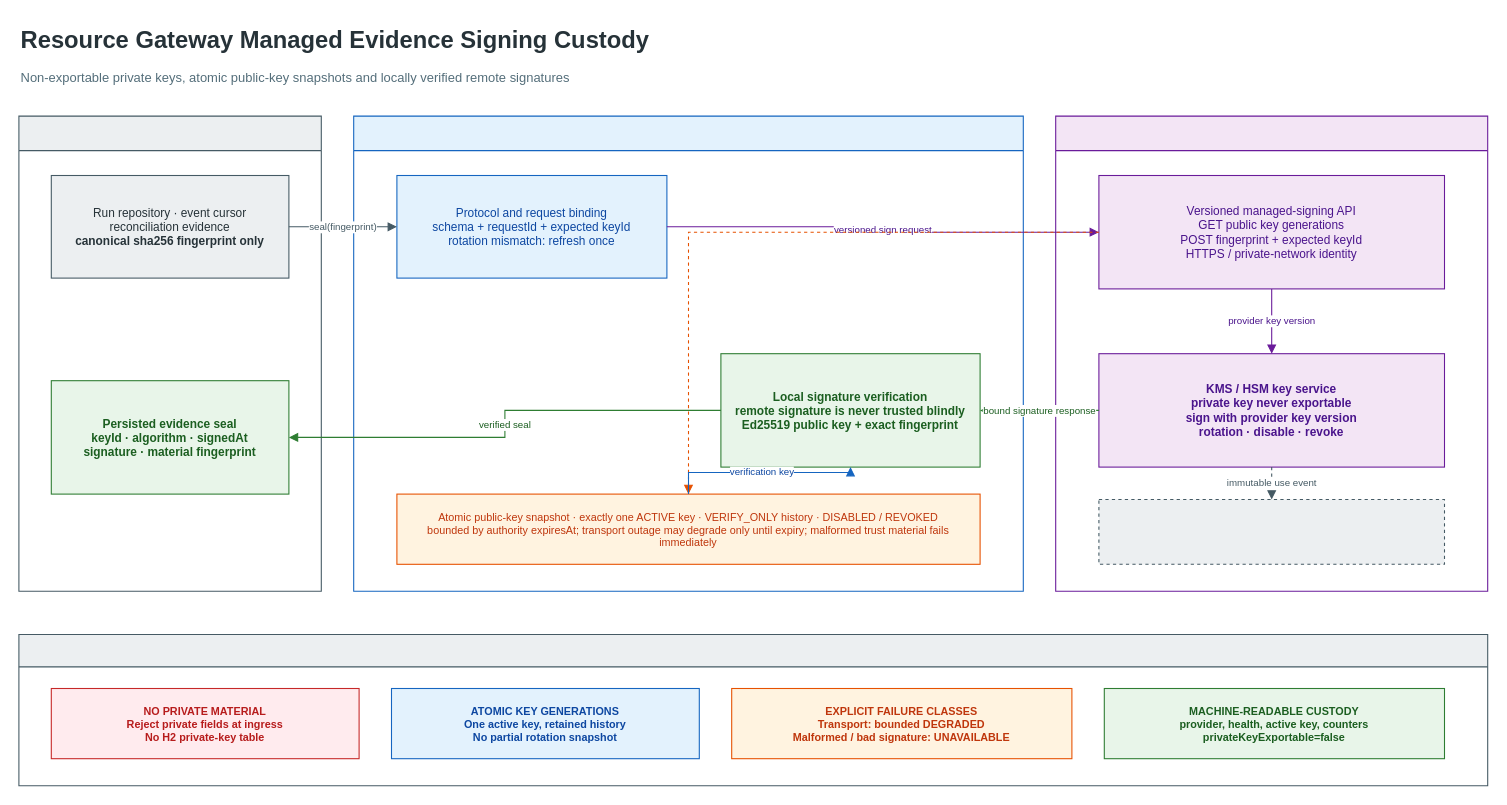
Some shapes in this 1507 by 805 pixel diagram are drawn without their labels. Here are the shapes that lost their labels. From the top down, the box of each, then its label:
(18, 115, 321, 591): Resource Gateway evidence producers
(353, 115, 1023, 591): ManagedVisualEvidenceSigner trust boundary
(1055, 115, 1488, 591): Enterprise signing authority
(1098, 498, 1444, 564): Provider audit / access policy key use, principal, requestId, outcome
(18, 633, 1488, 786): Industrial invariants
